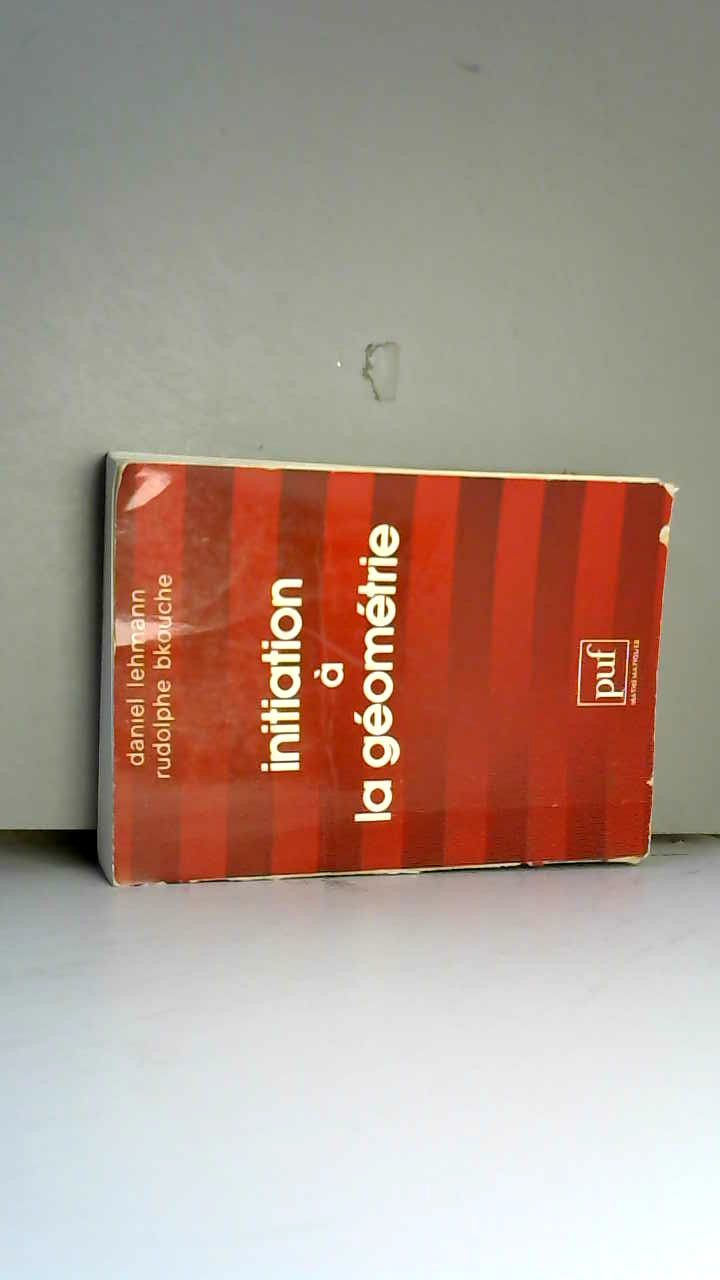book: (77, 432, 690, 916)
